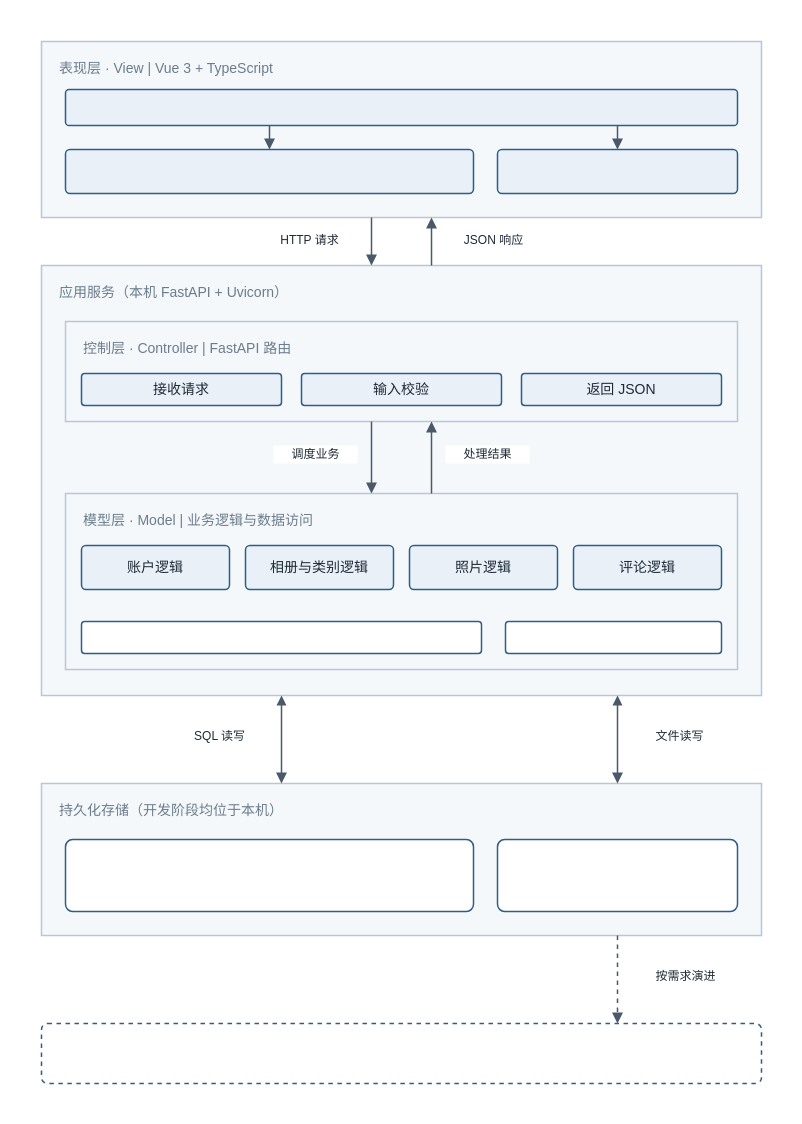
Image size: 802x1124. Some labels were removed from this diagram. The centre of each missing label's shape, as x and y in pixels:
PostgreSQL · Docker 容器 用户、相册、照片元数据、评论、类别: the point at 269,875
公共入口：注册 / 登录（管理员复用登录）: the point at 401,107
后期文件存储（待定）：独立文件服务器 / 对象存储: the point at 401,1053
图片文件处理: the point at 613,637
数据访问（ORM 倾向 SQLAlchemy）: the point at 281,637
普通用户页面 相册 · 照片 · 评论: the point at 269,171
本机 uploads/ 目录 原图与缩略图文件: the point at 617,875
管理员页面 相册类别维护: the point at 617,171
